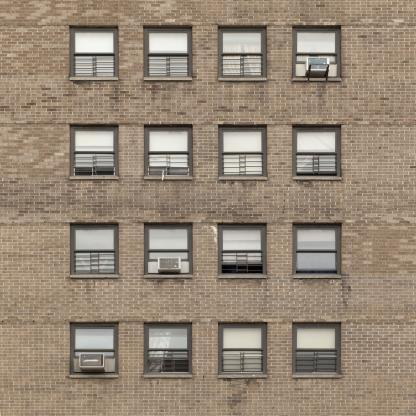Building Outline: (0, 0, 416, 415)
Facade: (0, 0, 416, 415)
Floor: (1, 315, 415, 407), (1, 215, 415, 307), (1, 19, 415, 110), (1, 118, 415, 207)
Floor Slab: (1, 11, 415, 19), (1, 407, 415, 415), (1, 307, 415, 315), (1, 208, 415, 216), (1, 109, 415, 117)
Sill: (294, 77, 342, 81), (70, 77, 118, 81), (144, 77, 192, 81), (219, 77, 267, 81), (294, 375, 342, 379), (70, 375, 118, 379), (144, 375, 192, 379), (219, 375, 267, 379), (294, 274, 342, 278), (70, 274, 118, 278), (144, 274, 192, 278), (219, 274, 267, 278), (294, 176, 342, 180), (70, 176, 118, 180), (144, 176, 192, 180), (219, 176, 267, 180)
Window: (294, 324, 342, 375), (70, 324, 118, 375), (144, 324, 192, 375), (219, 324, 267, 375), (294, 26, 342, 77), (70, 26, 118, 77), (144, 26, 192, 77), (219, 26, 267, 77), (294, 125, 342, 176), (70, 125, 118, 176), (144, 125, 192, 176), (219, 125, 267, 176), (294, 223, 342, 274), (70, 223, 118, 274), (144, 223, 192, 274), (219, 223, 267, 274)
